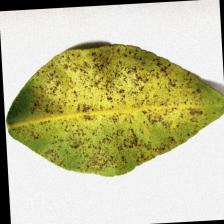canker: (45, 61, 177, 148)
